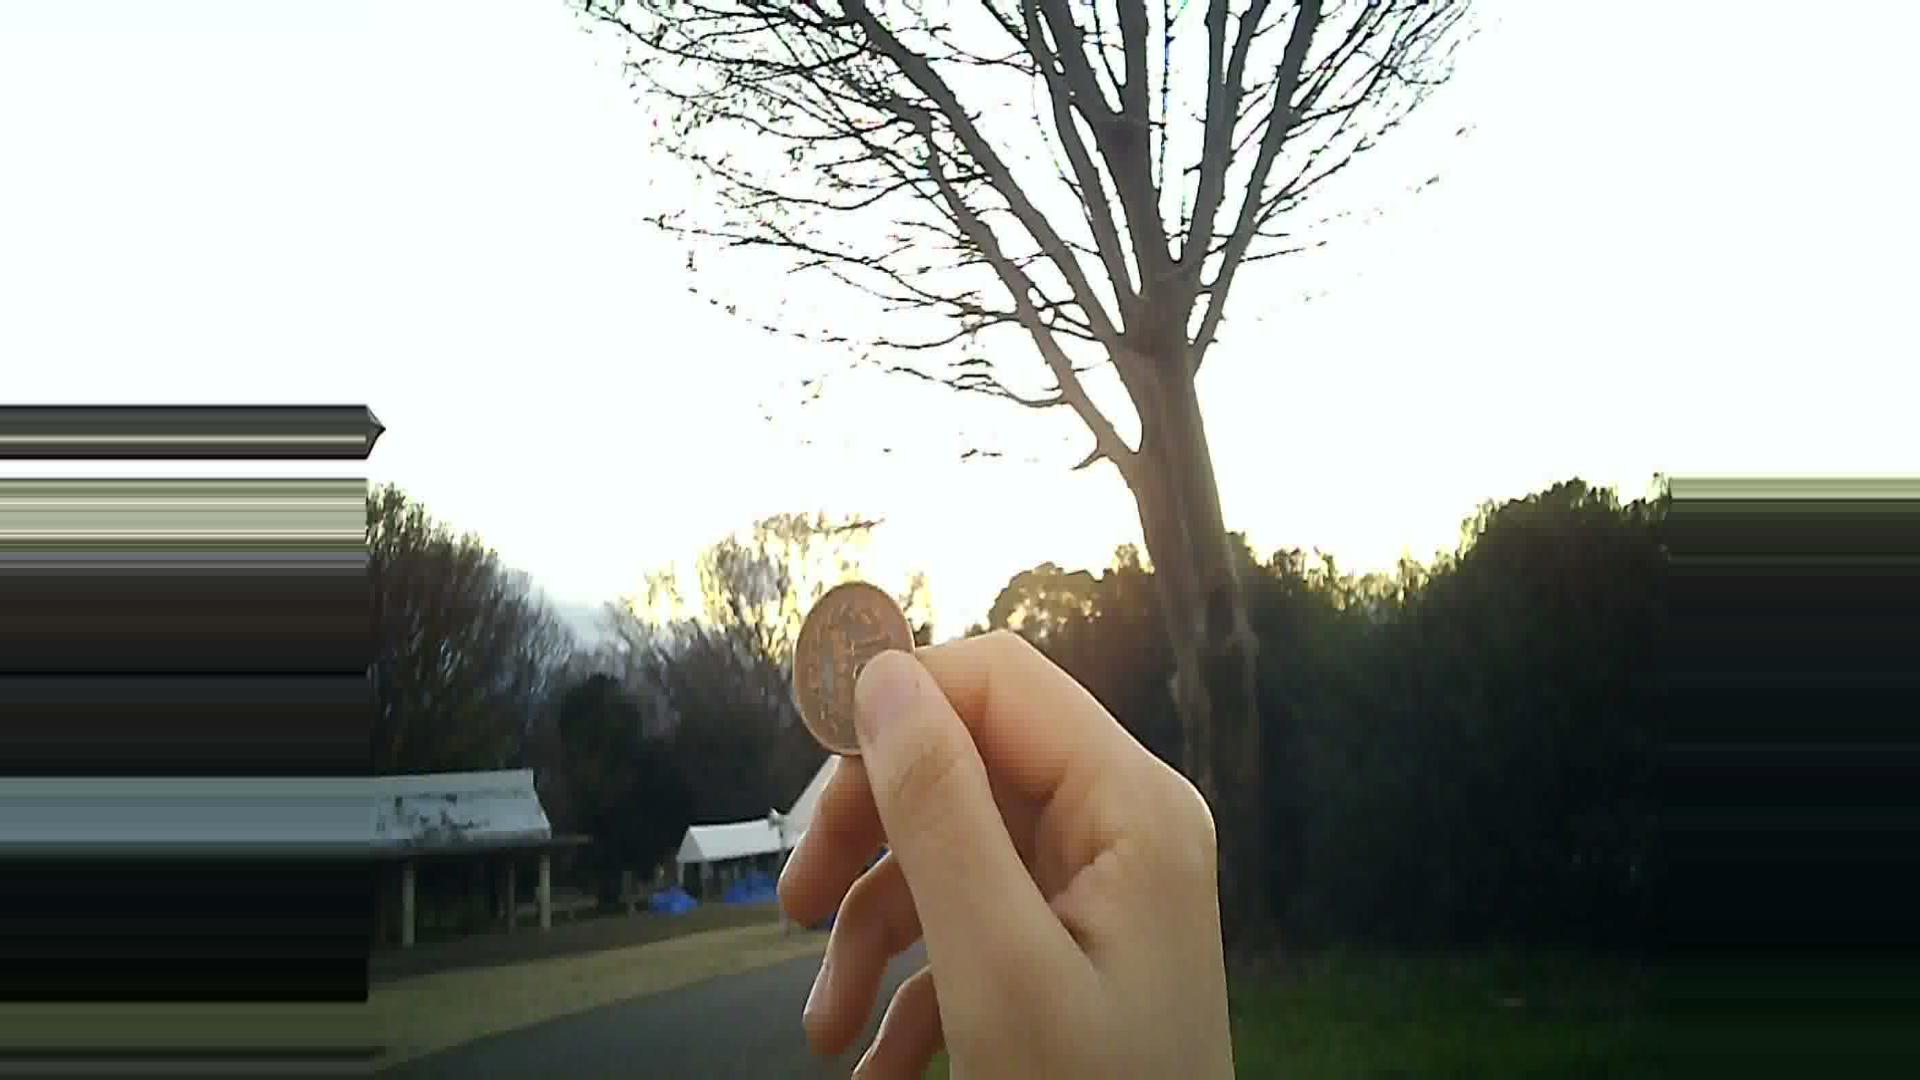10 Yen: (785, 580, 924, 753)
